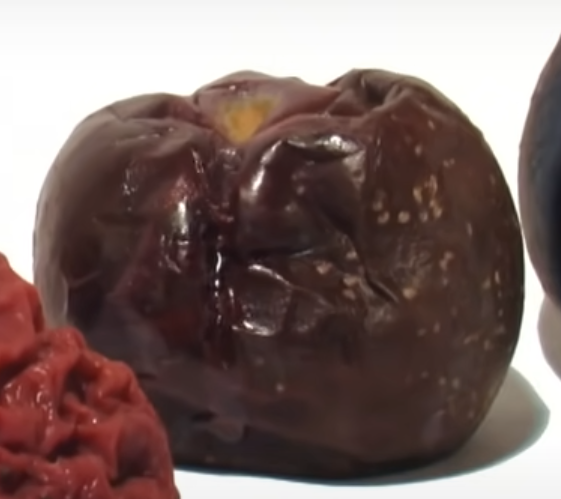plum_C: (34, 69, 525, 479)
